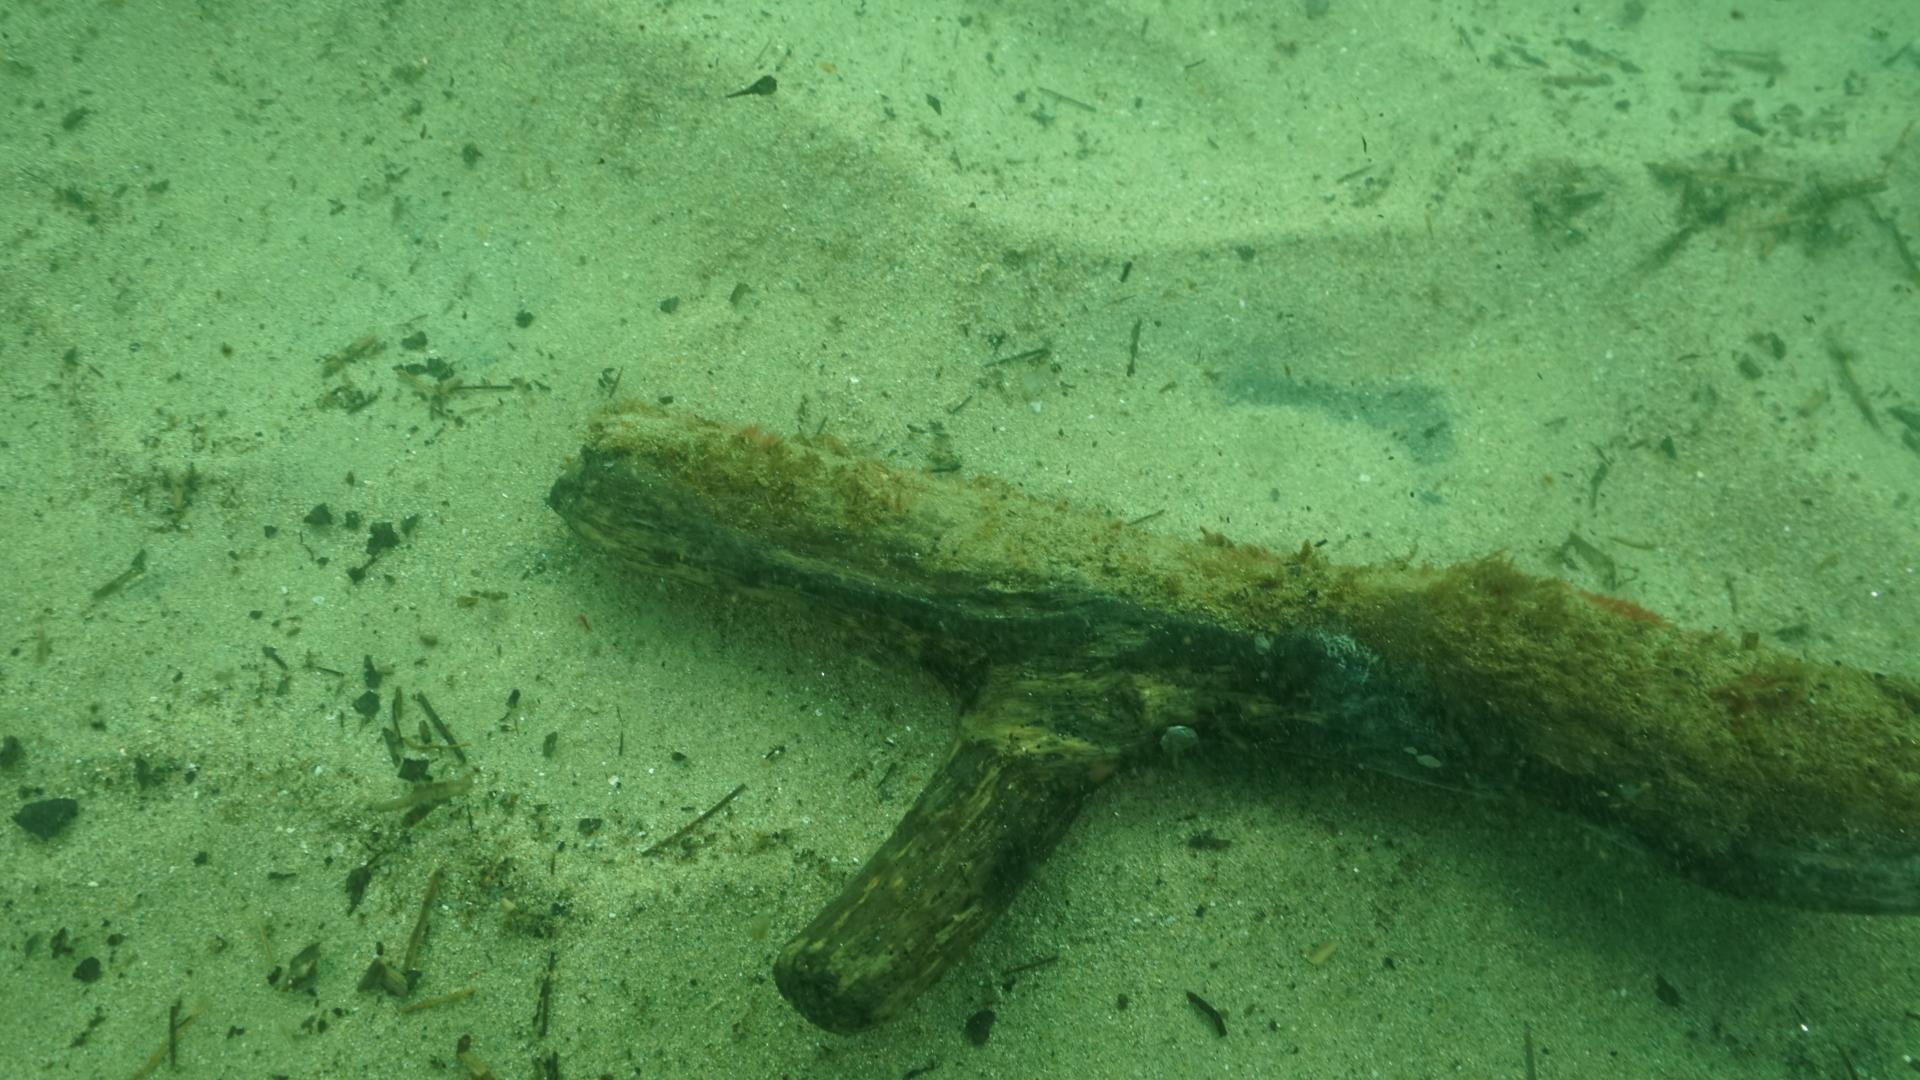wood: (547, 396, 1920, 1036)
